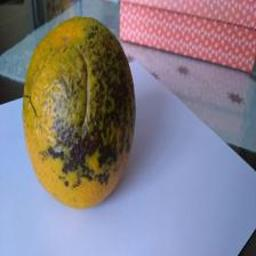Orange Semirotten: (12, 8, 153, 218)
